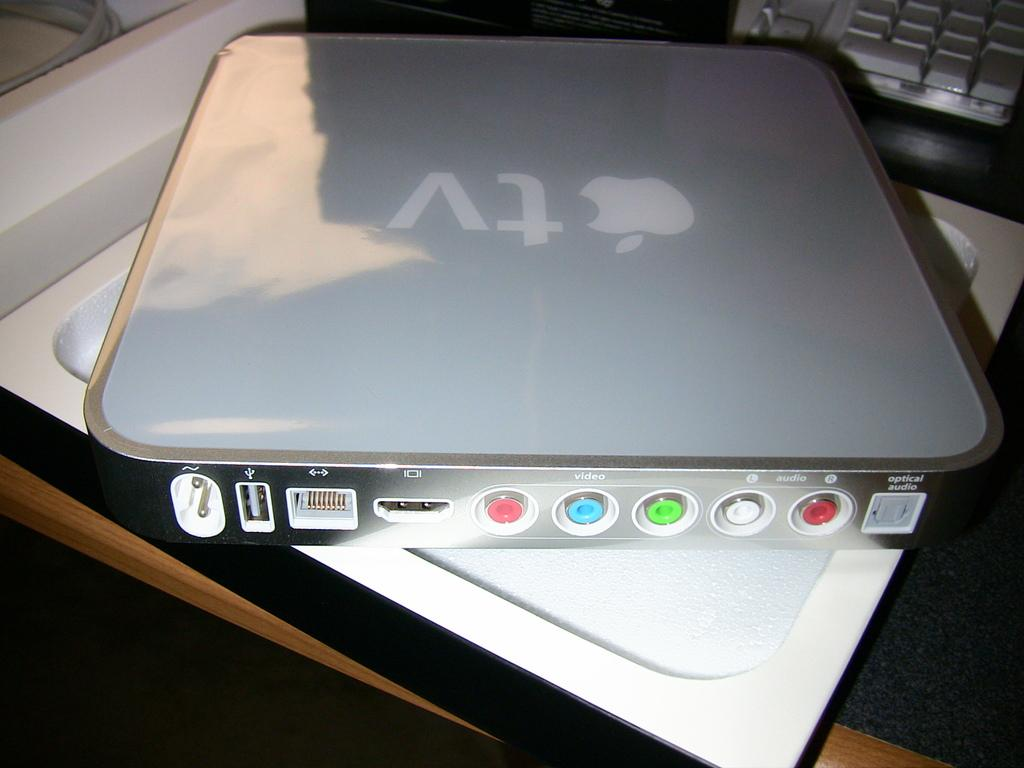Computer-keyboard: (829, 0, 1023, 223)
